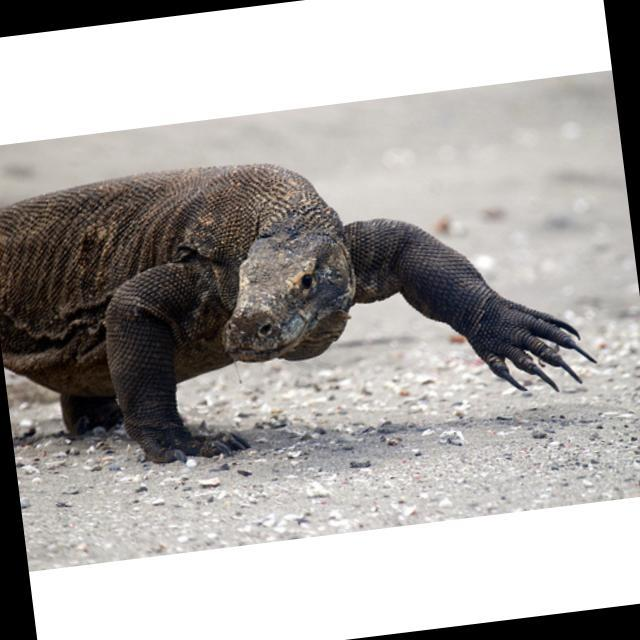KomodoDragon: (0, 113, 606, 482)
